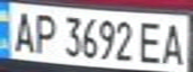2: (115, 17, 139, 63)
3: (57, 12, 84, 59)
6: (78, 15, 100, 60)
9: (97, 16, 118, 61)
A: (6, 7, 39, 54), (157, 19, 190, 66)
E: (136, 18, 166, 65)
P: (30, 9, 60, 55)
